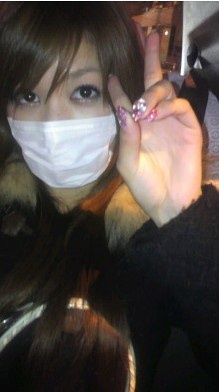face_mask: (9, 22, 118, 185)
